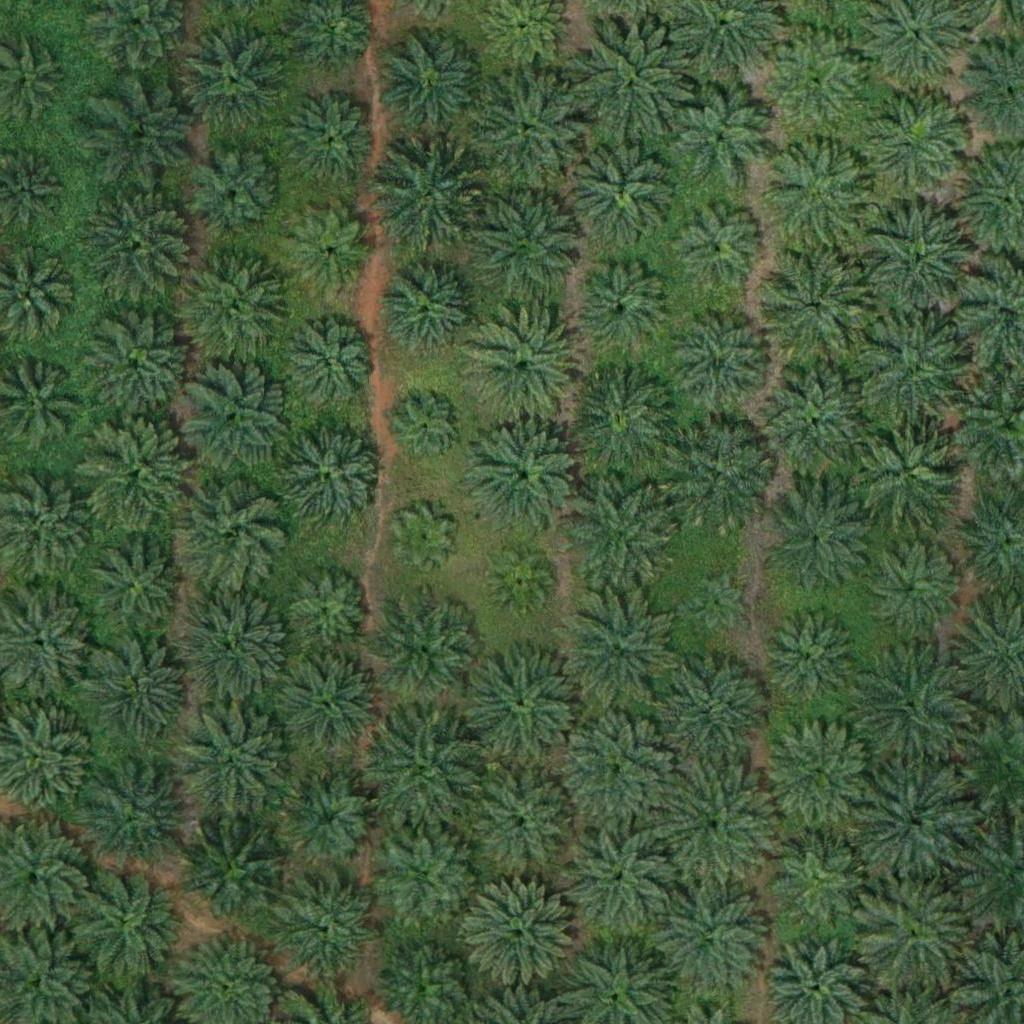Kelapa_Sawit: (376, 28, 489, 142), (368, 141, 481, 255), (856, 643, 969, 757), (762, 487, 875, 601), (181, 815, 294, 929), (66, 867, 179, 981), (85, 193, 198, 306), (80, 312, 193, 425), (374, 250, 487, 363), (466, 312, 579, 425), (763, 140, 876, 253), (755, 249, 868, 362), (860, 317, 973, 430), (851, 416, 964, 529), (856, 765, 969, 878), (760, 368, 873, 481), (559, 589, 672, 702), (563, 712, 676, 825), (468, 423, 581, 536), (465, 649, 578, 762), (173, 478, 286, 591), (177, 591, 290, 704), (178, 706, 291, 819), (78, 416, 191, 529), (80, 536, 193, 649), (465, 879, 578, 992), (558, 824, 671, 937), (857, 878, 970, 991), (474, 73, 586, 187), (471, 185, 583, 299), (568, 253, 680, 367), (662, 422, 774, 536), (565, 365, 677, 479), (76, 755, 188, 869), (85, 72, 197, 185), (178, 19, 290, 132), (175, 250, 287, 363), (575, 23, 687, 136), (569, 136, 681, 249), (863, 204, 975, 317), (763, 720, 875, 833), (657, 654, 769, 767), (659, 767, 771, 880), (568, 478, 680, 591), (465, 768, 577, 881), (369, 595, 481, 708), (368, 717, 480, 830), (277, 422, 389, 535), (271, 653, 383, 766), (177, 363, 289, 476), (81, 638, 193, 751), (653, 885, 765, 998), (184, 139, 284, 240), (668, 85, 768, 186), (764, 31, 864, 132), (864, 91, 964, 192), (279, 770, 379, 871), (379, 825, 479, 926), (768, 825, 868, 926), (281, 91, 381, 191), (671, 314, 771, 414), (861, 537, 961, 637), (759, 606, 859, 706), (282, 875, 382, 975), (286, 323, 374, 411), (283, 563, 371, 651), (286, 207, 373, 295), (677, 204, 764, 292), (489, 550, 552, 613), (397, 396, 460, 459), (392, 507, 455, 570), (686, 570, 748, 633)
